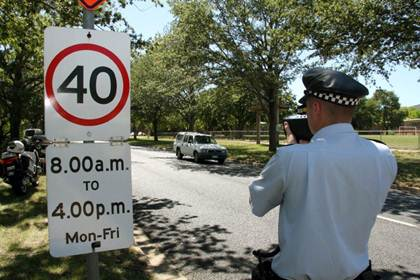40 Km/hr: (46, 43, 129, 126)
